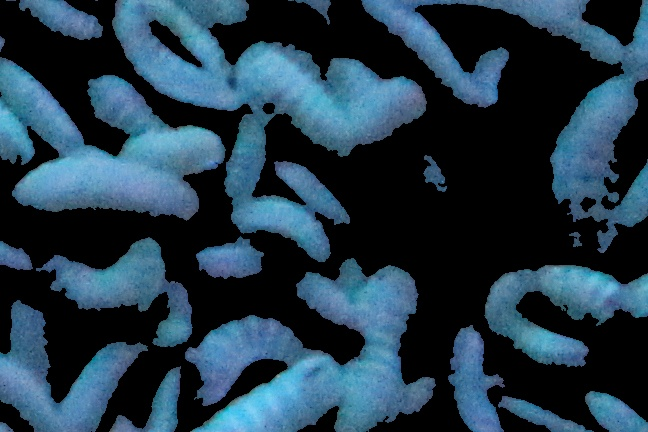larvae: (550, 77, 637, 246), (237, 43, 354, 162), (113, 6, 240, 109), (12, 152, 197, 222), (203, 356, 343, 428), (42, 235, 165, 307), (52, 337, 141, 432), (1, 56, 83, 148), (498, 312, 592, 383), (188, 318, 300, 375), (343, 344, 412, 432), (442, 322, 492, 432), (356, 264, 418, 352), (127, 124, 226, 178), (87, 73, 163, 142), (391, 11, 463, 81), (357, 74, 423, 150), (540, 258, 620, 319), (275, 160, 350, 224), (222, 109, 271, 198), (477, 265, 537, 334), (232, 200, 328, 243), (162, 6, 227, 68), (292, 262, 354, 325), (19, 1, 103, 44), (465, 44, 514, 112), (1, 362, 49, 425), (151, 280, 198, 344), (192, 245, 266, 285), (320, 47, 385, 92), (145, 364, 183, 432), (1, 107, 37, 167)
